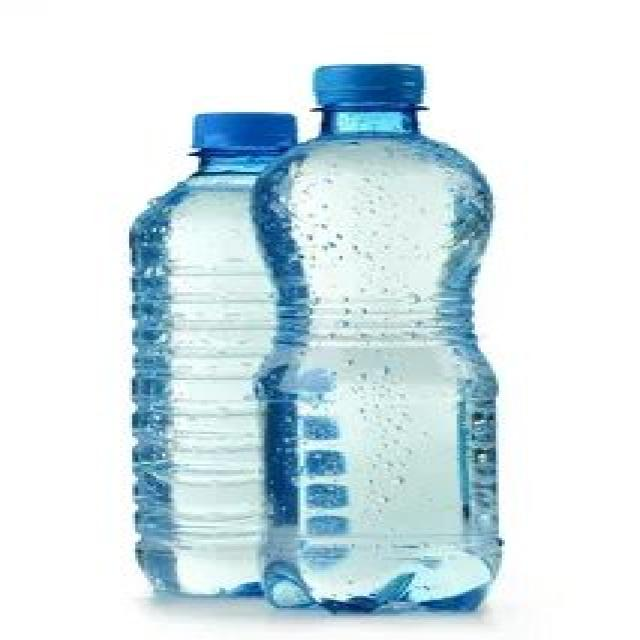blue: (263, 107, 496, 613), (130, 155, 260, 597)
